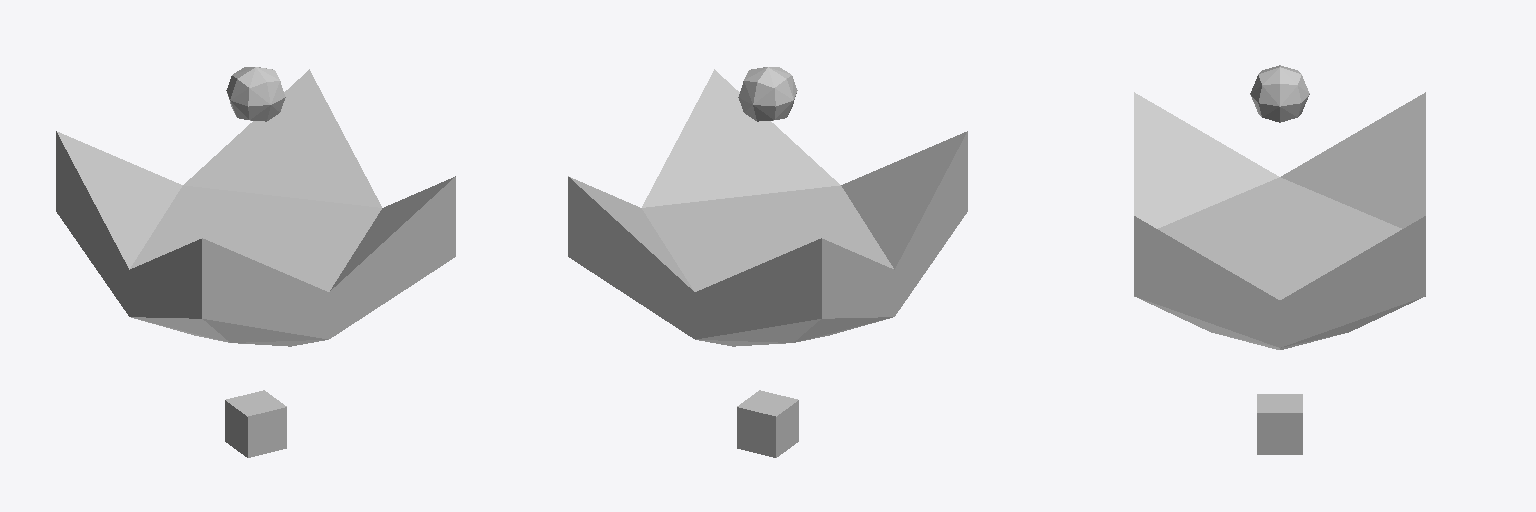
File: rose.obj
3 views of the same model, side by side, from view 1: azimuth 30°, elevation 25°; view 2: azimuth 150°, elevation 25°; view 3: azimuth 270°, elevation 25° (orthographic).
Visible parts, largest first — view 1: Rose, Ball; view 2: Rose, Ball; view 3: Rose, Ball.
Boxes of the visible parts, x1=… form: Rose: x1=56, y1=69, x2=455, y2=457; Ball: x1=226, y1=67, x2=285, y2=121; Rose: x1=568, y1=69, x2=967, y2=457; Ball: x1=738, y1=67, x2=797, y2=121; Rose: x1=1134, y1=92, x2=1425, y2=454; Ball: x1=1250, y1=65, x2=1309, y2=122.
Bounding box in the file's own units: 2 × 2.85 × 2.